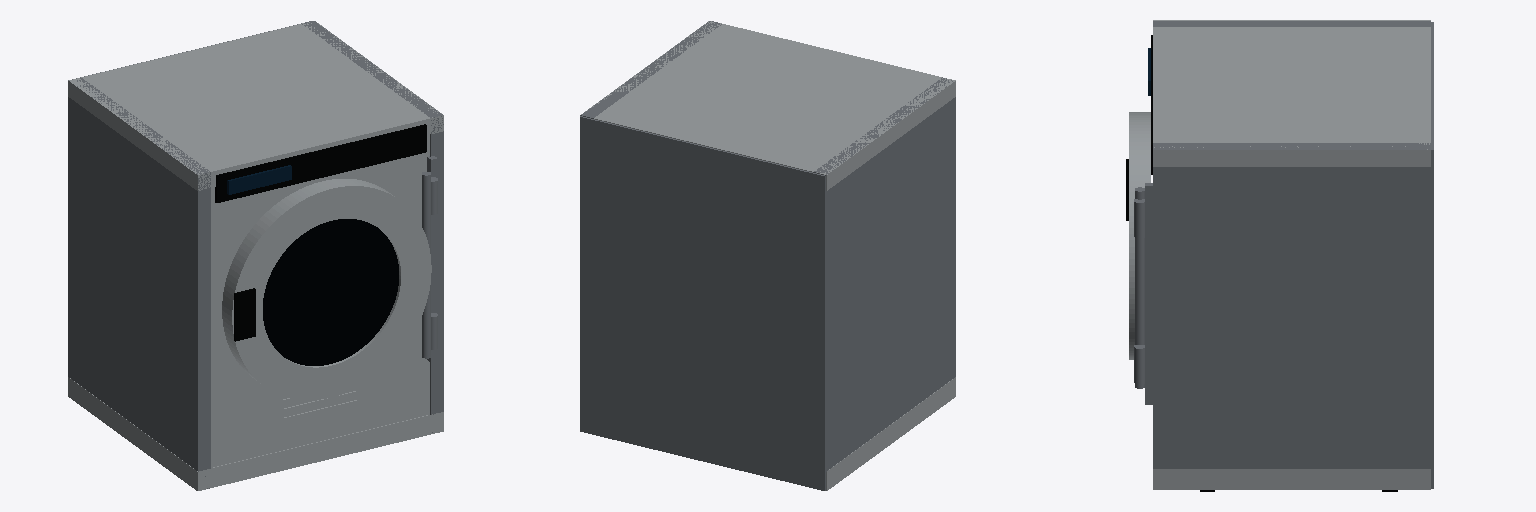
robot.urdf — condenser_dryer:
<robot name="condenser_dryer">
  <material name="warm_grey_body">
    <color rgba="0.62 0.64 0.65 1" />
    </material>
  <material name="slightly_darker_grey">
    <color rgba="0.46 0.48 0.5 1" />
    </material>
  <material name="dark_recess">
    <color rgba="0.035 0.038 0.04 1" />
    </material>
  <material name="smoked_glass">
    <color rgba="0.02 0.035 0.045 0.42" />
    </material>
  <material name="black_rubber_gasket">
    <color rgba="0.015 0.015 0.016 1" />
    </material>
  <material name="brushed_stainless_drum">
    <color rgba="0.74 0.76 0.75 1" />
    </material>
  <material name="dim_blue_display">
    <color rgba="0.06 0.15 0.22 1" />
    </material>
  <link name="cabinet">
    <visual name="side_panel_0">
      <origin xyz="-0.3325 -0.015 0" rpy="0 0 0" />
      <geometry>
        <box size="0.037 0.64 0.864" />
        </geometry>
      <material name="slightly_darker_grey">
        <color rgba="0.46 0.48 0.5 1" />
        </material>
      </visual>
    <visual name="side_panel_1">
      <origin xyz="0.3325 -0.015 0" rpy="0 0 0" />
      <geometry>
        <box size="0.037 0.64 0.864" />
        </geometry>
      <material name="slightly_darker_grey">
        <color rgba="0.46 0.48 0.5 1" />
        </material>
      </visual>
    <visual name="top_panel">
      <origin xyz="0 -0.015 0.41" rpy="0 0 0" />
      <geometry>
        <box size="0.704 0.64 0.044" />
        </geometry>
      <material name="warm_grey_body">
        <color rgba="0.62 0.64 0.65 1" />
        </material>
      </visual>
    <visual name="base_panel">
      <origin xyz="0 -0.015 -0.405" rpy="0 0 0" />
      <geometry>
        <box size="0.704 0.64 0.054" />
        </geometry>
      <material name="warm_grey_body">
        <color rgba="0.62 0.64 0.65 1" />
        </material>
      </visual>
    <visual name="rear_panel">
      <origin xyz="0 0.2925 0" rpy="0 0 0" />
      <geometry>
        <box size="0.7 0.035 0.86" />
        </geometry>
      <material name="slightly_darker_grey">
        <color rgba="0.46 0.48 0.5 1" />
        </material>
      </visual>
    <visual name="front_panel">
      <origin xyz="0 -0.2975 0" rpy="0 0 0" />
      <geometry>
        <mesh filename="assets/meshes/front_panel.obj" />
        </geometry>
      <material name="warm_grey_body">
        <color rgba="0.62 0.64 0.65 1" />
        </material>
      </visual>
    <visual name="control_band">
      <origin xyz="0 -0.334 0.382" rpy="0 0 0" />
      <geometry>
        <box size="0.6 0.012 0.075" />
        </geometry>
      <material name="dark_recess">
        <color rgba="0.035 0.038 0.04 1" />
        </material>
      </visual>
    <visual name="display_window">
      <origin xyz="-0.18 -0.341 0.382" rpy="0 0 0" />
      <geometry>
        <box size="0.18 0.012 0.038" />
        </geometry>
      <material name="dim_blue_display">
        <color rgba="0.06 0.15 0.22 1" />
        </material>
      </visual>
    <visual name="condenser_access">
      <origin xyz="0 -0.326 -0.26" rpy="0 0 0" />
      <geometry>
        <box size="0.26 0.012 0.105" />
        </geometry>
      <material name="dark_recess">
        <color rgba="0.035 0.038 0.04 1" />
        </material>
      </visual>
    <visual name="condenser_slit_0">
      <origin xyz="0 -0.333 -0.292" rpy="0 0 0" />
      <geometry>
        <box size="0.215 0.006 0.006" />
        </geometry>
      <material name="warm_grey_body">
        <color rgba="0.62 0.64 0.65 1" />
        </material>
      </visual>
    <visual name="condenser_slit_1">
      <origin xyz="0 -0.333 -0.267" rpy="0 0 0" />
      <geometry>
        <box size="0.215 0.006 0.006" />
        </geometry>
      <material name="warm_grey_body">
        <color rgba="0.62 0.64 0.65 1" />
        </material>
      </visual>
    <visual name="condenser_slit_2">
      <origin xyz="0 -0.333 -0.242" rpy="0 0 0" />
      <geometry>
        <box size="0.215 0.006 0.006" />
        </geometry>
      <material name="warm_grey_body">
        <color rgba="0.62 0.64 0.65 1" />
        </material>
      </visual>
    <visual name="condenser_slit_3">
      <origin xyz="0 -0.333 -0.217" rpy="0 0 0" />
      <geometry>
        <box size="0.215 0.006 0.006" />
        </geometry>
      <material name="warm_grey_body">
        <color rgba="0.62 0.64 0.65 1" />
        </material>
      </visual>
    <visual name="foot_0">
      <origin xyz="-0.27 -0.21 -0.445" rpy="0 0 0" />
      <geometry>
        <box size="0.035 0.035 0.04" />
        </geometry>
      <material name="dark_recess">
        <color rgba="0.035 0.038 0.04 1" />
        </material>
      </visual>
    <visual name="foot_1">
      <origin xyz="0.27 -0.21 -0.445" rpy="0 0 0" />
      <geometry>
        <box size="0.035 0.035 0.04" />
        </geometry>
      <material name="dark_recess">
        <color rgba="0.035 0.038 0.04 1" />
        </material>
      </visual>
    <visual name="foot_2">
      <origin xyz="-0.27 0.21 -0.445" rpy="0 0 0" />
      <geometry>
        <box size="0.035 0.035 0.04" />
        </geometry>
      <material name="dark_recess">
        <color rgba="0.035 0.038 0.04 1" />
        </material>
      </visual>
    <visual name="foot_3">
      <origin xyz="0.27 0.21 -0.445" rpy="0 0 0" />
      <geometry>
        <box size="0.035 0.035 0.04" />
        </geometry>
      <material name="dark_recess">
        <color rgba="0.035 0.038 0.04 1" />
        </material>
      </visual>
    <visual name="rear_bearing">
      <origin xyz="0 0.27 0.05" rpy="0 0 0" />
      <geometry>
        <mesh filename="assets/meshes/rear_bearing.obj" />
        </geometry>
      <material name="slightly_darker_grey">
        <color rgba="0.46 0.48 0.5 1" />
        </material>
      </visual>
    <visual name="hinge_leaf">
      <origin xyz="0.315 -0.333 0.05" rpy="0 0 0" />
      <geometry>
        <box size="0.018 0.04 0.555" />
        </geometry>
      <material name="slightly_darker_grey">
        <color rgba="0.46 0.48 0.5 1" />
        </material>
      </visual>
    <visual name="hinge_socket_0">
      <origin xyz="0.302 -0.365 -0.135" rpy="0 0 0" />
      <geometry>
        <cylinder radius="0.014" length="0.09" />
        </geometry>
      <material name="slightly_darker_grey">
        <color rgba="0.46 0.48 0.5 1" />
        </material>
      </visual>
    <visual name="hinge_socket_1">
      <origin xyz="0.302 -0.365 0.235" rpy="0 0 0" />
      <geometry>
        <cylinder radius="0.014" length="0.09" />
        </geometry>
      <material name="slightly_darker_grey">
        <color rgba="0.46 0.48 0.5 1" />
        </material>
      </visual>
    <collision name="side_panel_0">
      <origin xyz="-0.3325 -0.015 0" rpy="0 0 0" />
      <geometry>
        <box size="0.037 0.64 0.864" />
        </geometry>
      </collision>
    <collision name="side_panel_1">
      <origin xyz="0.3325 -0.015 0" rpy="0 0 0" />
      <geometry>
        <box size="0.037 0.64 0.864" />
        </geometry>
      </collision>
    <collision name="top_panel">
      <origin xyz="0 -0.015 0.41" rpy="0 0 0" />
      <geometry>
        <box size="0.704 0.64 0.044" />
        </geometry>
      </collision>
    <collision name="base_panel">
      <origin xyz="0 -0.015 -0.405" rpy="0 0 0" />
      <geometry>
        <box size="0.704 0.64 0.054" />
        </geometry>
      </collision>
    <collision name="rear_panel">
      <origin xyz="0 0.2925 0" rpy="0 0 0" />
      <geometry>
        <box size="0.7 0.035 0.86" />
        </geometry>
      </collision>
    <collision name="front_panel">
      <origin xyz="0 -0.2975 0" rpy="0 0 0" />
      <geometry>
        <mesh filename="assets/meshes/front_panel.obj" />
        </geometry>
      </collision>
    <collision name="control_band">
      <origin xyz="0 -0.334 0.382" rpy="0 0 0" />
      <geometry>
        <box size="0.6 0.012 0.075" />
        </geometry>
      </collision>
    <collision name="display_window">
      <origin xyz="-0.18 -0.341 0.382" rpy="0 0 0" />
      <geometry>
        <box size="0.18 0.012 0.038" />
        </geometry>
      </collision>
    <collision name="condenser_access">
      <origin xyz="0 -0.326 -0.26" rpy="0 0 0" />
      <geometry>
        <box size="0.26 0.012 0.105" />
        </geometry>
      </collision>
    <collision name="condenser_slit_0">
      <origin xyz="0 -0.333 -0.292" rpy="0 0 0" />
      <geometry>
        <box size="0.215 0.006 0.006" />
        </geometry>
      </collision>
    <collision name="condenser_slit_1">
      <origin xyz="0 -0.333 -0.267" rpy="0 0 0" />
      <geometry>
        <box size="0.215 0.006 0.006" />
        </geometry>
      </collision>
    <collision name="condenser_slit_2">
      <origin xyz="0 -0.333 -0.242" rpy="0 0 0" />
      <geometry>
        <box size="0.215 0.006 0.006" />
        </geometry>
      </collision>
    <collision name="condenser_slit_3">
      <origin xyz="0 -0.333 -0.217" rpy="0 0 0" />
      <geometry>
        <box size="0.215 0.006 0.006" />
        </geometry>
      </collision>
    <collision name="foot_0">
      <origin xyz="-0.27 -0.21 -0.445" rpy="0 0 0" />
      <geometry>
        <box size="0.035 0.035 0.04" />
        </geometry>
      </collision>
    <collision name="foot_1">
      <origin xyz="0.27 -0.21 -0.445" rpy="0 0 0" />
      <geometry>
        <box size="0.035 0.035 0.04" />
        </geometry>
      </collision>
    <collision name="foot_2">
      <origin xyz="-0.27 0.21 -0.445" rpy="0 0 0" />
      <geometry>
        <box size="0.035 0.035 0.04" />
        </geometry>
      </collision>
    <collision name="foot_3">
      <origin xyz="0.27 0.21 -0.445" rpy="0 0 0" />
      <geometry>
        <box size="0.035 0.035 0.04" />
        </geometry>
      </collision>
    <collision name="rear_bearing">
      <origin xyz="0 0.27 0.05" rpy="0 0 0" />
      <geometry>
        <mesh filename="assets/meshes/rear_bearing.obj" />
        </geometry>
      </collision>
    <collision name="hinge_leaf">
      <origin xyz="0.315 -0.333 0.05" rpy="0 0 0" />
      <geometry>
        <box size="0.018 0.04 0.555" />
        </geometry>
      </collision>
    <collision name="hinge_socket_0">
      <origin xyz="0.302 -0.365 -0.135" rpy="0 0 0" />
      <geometry>
        <cylinder radius="0.014" length="0.09" />
        </geometry>
      </collision>
    <collision name="hinge_socket_1">
      <origin xyz="0.302 -0.365 0.235" rpy="0 0 0" />
      <geometry>
        <cylinder radius="0.014" length="0.09" />
        </geometry>
      </collision>
    </link>
  <link name="drum">
    <visual name="drum_shell">
      <origin xyz="0 0 0" rpy="-1.5708 0 0" />
      <geometry>
        <mesh filename="assets/meshes/drum_shell.obj" />
        </geometry>
      <material name="brushed_stainless_drum">
        <color rgba="0.74 0.76 0.75 1" />
        </material>
      </visual>
    <visual name="rear_hub">
      <origin xyz="0 0.238 0" rpy="-1.5708 0 0" />
      <geometry>
        <cylinder radius="0.032" length="0.06" />
        </geometry>
      <material name="brushed_stainless_drum">
        <color rgba="0.74 0.76 0.75 1" />
        </material>
      </visual>
    <visual name="rear_drum_wall">
      <origin xyz="0 0.216 0" rpy="-1.5708 0 0" />
      <geometry>
        <cylinder radius="0.225" length="0.018" />
        </geometry>
      <material name="brushed_stainless_drum">
        <color rgba="0.74 0.76 0.75 1" />
        </material>
      </visual>
    <visual name="drum_lifter_0">
      <origin xyz="1.25526e-17 0 0.205" rpy="0 1.5708 0" />
      <geometry>
        <box size="0.032 0.39 0.05" />
        </geometry>
      <material name="brushed_stainless_drum">
        <color rgba="0.74 0.76 0.75 1" />
        </material>
      </visual>
    <visual name="drum_lifter_1">
      <origin xyz="-0.177535 0 -0.1025" rpy="0 3.66519 0" />
      <geometry>
        <box size="0.032 0.39 0.05" />
        </geometry>
      <material name="brushed_stainless_drum">
        <color rgba="0.74 0.76 0.75 1" />
        </material>
      </visual>
    <visual name="drum_lifter_2">
      <origin xyz="0.177535 0 -0.1025" rpy="0 5.75959 0" />
      <geometry>
        <box size="0.032 0.39 0.05" />
        </geometry>
      <material name="brushed_stainless_drum">
        <color rgba="0.74 0.76 0.75 1" />
        </material>
      </visual>
    <collision name="drum_shell">
      <origin xyz="0 0 0" rpy="-1.5708 0 0" />
      <geometry>
        <mesh filename="assets/meshes/drum_shell.obj" />
        </geometry>
      </collision>
    <collision name="rear_hub">
      <origin xyz="0 0.238 0" rpy="-1.5708 0 0" />
      <geometry>
        <cylinder radius="0.032" length="0.06" />
        </geometry>
      </collision>
    <collision name="rear_drum_wall">
      <origin xyz="0 0.216 0" rpy="-1.5708 0 0" />
      <geometry>
        <cylinder radius="0.225" length="0.018" />
        </geometry>
      </collision>
    <collision name="drum_lifter_0">
      <origin xyz="1.25526e-17 0 0.205" rpy="0 1.5708 0" />
      <geometry>
        <box size="0.032 0.39 0.05" />
        </geometry>
      </collision>
    <collision name="drum_lifter_1">
      <origin xyz="-0.177535 0 -0.1025" rpy="0 3.66519 0" />
      <geometry>
        <box size="0.032 0.39 0.05" />
        </geometry>
      </collision>
    <collision name="drum_lifter_2">
      <origin xyz="0.177535 0 -0.1025" rpy="0 5.75959 0" />
      <geometry>
        <box size="0.032 0.39 0.05" />
        </geometry>
      </collision>
    </link>
  <link name="door">
    <visual name="door_ring">
      <origin xyz="-0.285 0 0" rpy="0 0 0" />
      <geometry>
        <mesh filename="assets/meshes/door_ring.obj" />
        </geometry>
      <material name="warm_grey_body">
        <color rgba="0.62 0.64 0.65 1" />
        </material>
      </visual>
    <visual name="rubber_seal">
      <origin xyz="-0.285 0.011 0" rpy="0 0 0" />
      <geometry>
        <mesh filename="assets/meshes/rubber_seal.obj" />
        </geometry>
      <material name="black_rubber_gasket">
        <color rgba="0.015 0.015 0.016 1" />
        </material>
      </visual>
    <visual name="window_bowl">
      <origin xyz="-0.285 -0.01 0" rpy="-1.5708 0 0" />
      <geometry>
        <cylinder radius="0.204" length="0.012" />
        </geometry>
      <material name="smoked_glass">
        <color rgba="0.02 0.035 0.045 0.42" />
        </material>
      </visual>
    <visual name="handle_recess">
      <origin xyz="-0.535 -0.028 0" rpy="0 0 0" />
      <geometry>
        <box size="0.06 0.006 0.13" />
        </geometry>
      <material name="dark_recess">
        <color rgba="0.035 0.038 0.04 1" />
        </material>
      </visual>
    <visual name="hinge_barrel">
      <geometry>
        <cylinder radius="0.012" length="0.5" />
        </geometry>
      <material name="slightly_darker_grey">
        <color rgba="0.46 0.48 0.5 1" />
        </material>
      </visual>
    <collision name="door_ring">
      <origin xyz="-0.285 0 0" rpy="0 0 0" />
      <geometry>
        <mesh filename="assets/meshes/door_ring.obj" />
        </geometry>
      </collision>
    <collision name="rubber_seal">
      <origin xyz="-0.285 0.011 0" rpy="0 0 0" />
      <geometry>
        <mesh filename="assets/meshes/rubber_seal.obj" />
        </geometry>
      </collision>
    <collision name="window_bowl">
      <origin xyz="-0.285 -0.01 0" rpy="-1.5708 0 0" />
      <geometry>
        <cylinder radius="0.204" length="0.012" />
        </geometry>
      </collision>
    <collision name="handle_recess">
      <origin xyz="-0.535 -0.028 0" rpy="0 0 0" />
      <geometry>
        <box size="0.06 0.006 0.13" />
        </geometry>
      </collision>
    <collision name="hinge_barrel">
      <geometry>
        <cylinder radius="0.012" length="0.5" />
        </geometry>
      </collision>
    </link>
  <joint name="cabinet_to_drum" type="continuous">
    <origin xyz="0 0 0.05" rpy="0 0 0" />
    <parent link="cabinet" />
    <child link="drum" />
    <axis xyz="0 1 0" />
    <limit effort="30" velocity="8" />
    </joint>
  <joint name="cabinet_to_door" type="revolute">
    <origin xyz="0.285 -0.365 0.05" rpy="0 0 0" />
    <parent link="cabinet" />
    <child link="door" />
    <axis xyz="0 0 1" />
    <limit effort="8" velocity="2" lower="0" upper="1.8" />
    </joint>
  </robot>

--- What the picture shows (computed from the rendered views, not written in the file) ---
3 views of the same robot in one strip: view 1: azimuth 30°, elevation 25°; view 2: azimuth 150°, elevation 25°; view 3: azimuth 270°, elevation 25° (orthographic).
Robot: condenser_dryer — 3 links, 2 joints (1 revolute, 1 continuous); root link cabinet; default pose: all joints at 0.
Links seen in each view (by area): view 1: cabinet, door; view 2: cabinet; view 3: cabinet, door.
Boxes of the visible links, left/top/right/bottom form: cabinet: left=68, top=21, right=443, bottom=490; door: left=222, top=172, right=431, bottom=399; cabinet: left=580, top=21, right=955, bottom=490; cabinet: left=1134, top=20, right=1433, bottom=491; door: left=1126, top=112, right=1150, bottom=388.
Size in the robot's own frame: 0.704 by 0.706 by 0.897 metres.
5 mesh visuals loaded from 5 distinct referenced files (5 OBJ).
